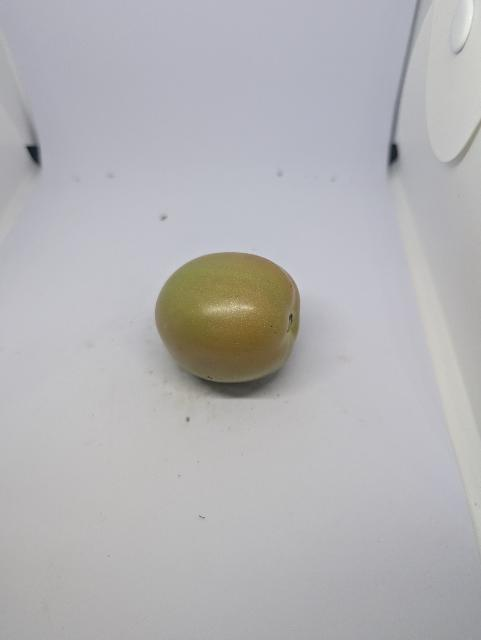breaker: (155, 252, 300, 383)
